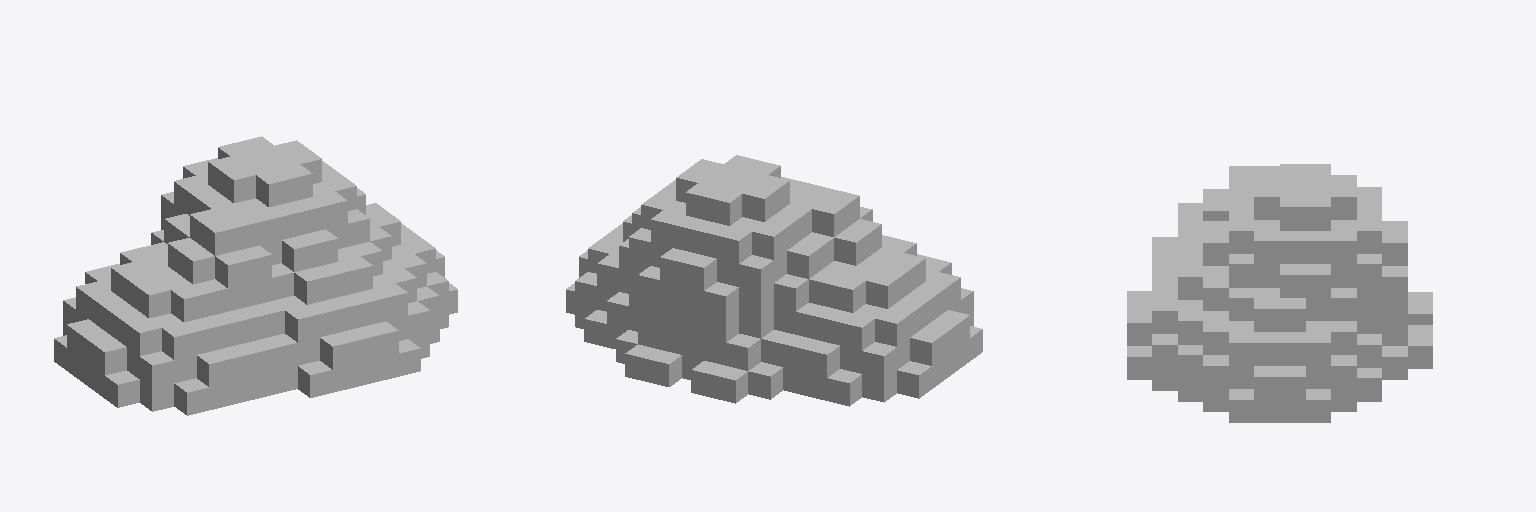
File: Arbusto_03.obj
3 views of the same model, side by side, from view 1: azimuth 30°, elevation 25°; view 2: azimuth 150°, elevation 25°; view 3: azimuth 270°, elevation 25° (orthographic).
Visible parts, largest first — view 1: Content; view 2: Content; view 3: Content.
Boxes of the visible parts, x1=… form: Content: x1=54, y1=136, x2=457, y2=415; Content: x1=566, y1=155, x2=982, y2=406; Content: x1=1127, y1=164, x2=1432, y2=422.
Size of the model in its own units: 1.28 by 0.56 by 0.96.